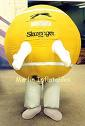tennis ball: (3, 3, 82, 80)
